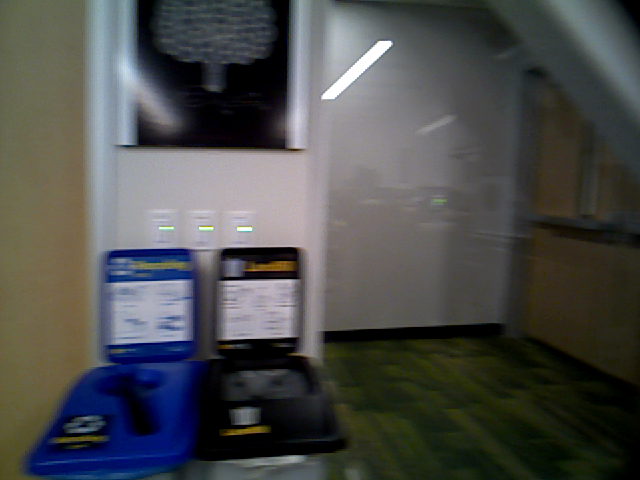painting1: (116, 1, 303, 149)
